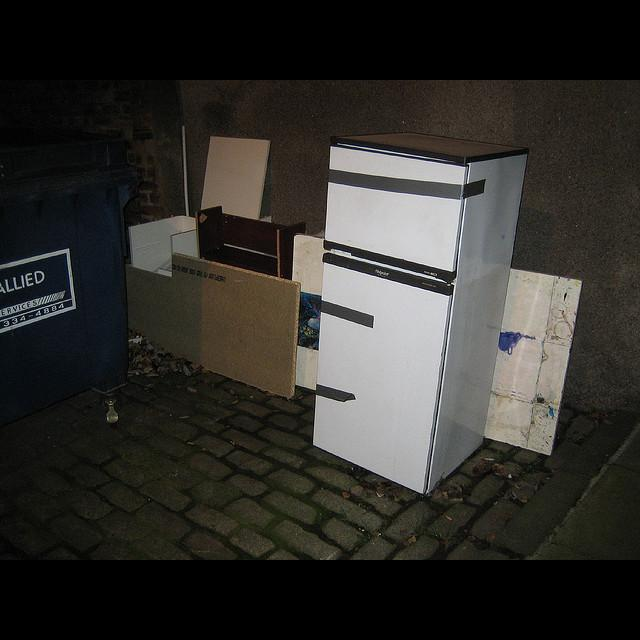Refrigerator: (313, 136, 521, 498)
